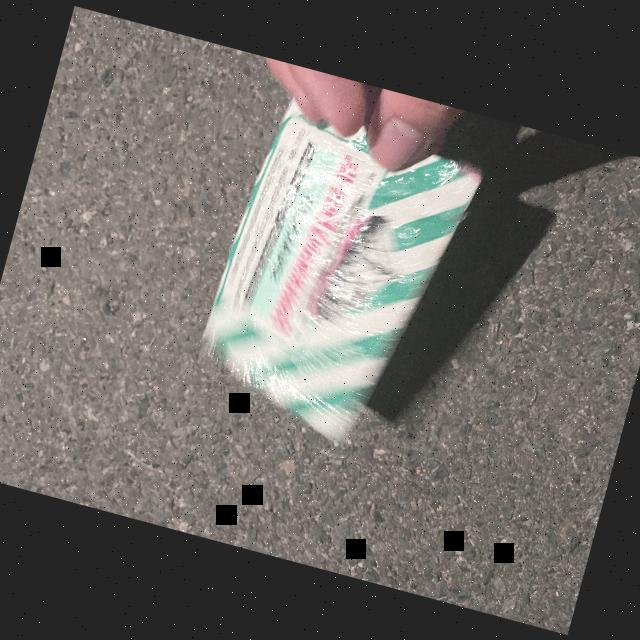snack_bag: (165, 73, 501, 485)
